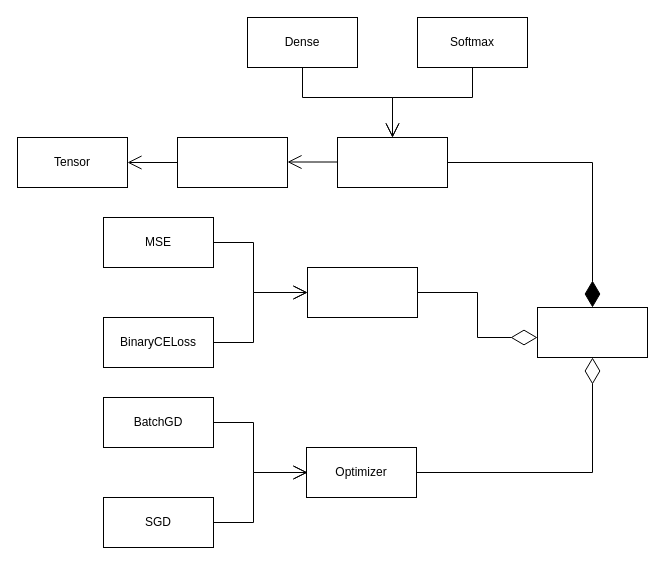
The diagram is 665 pixels wide and 565 high, and some of its shapes have lost their labels. The shapes that lost their labels are listed below. From the top down, each one's centre as x and y in pixels, then its label:
the point at 232,162: Parameter
the point at 392,162: Module
the point at 362,292: Loss
the point at 592,332: Sequential
